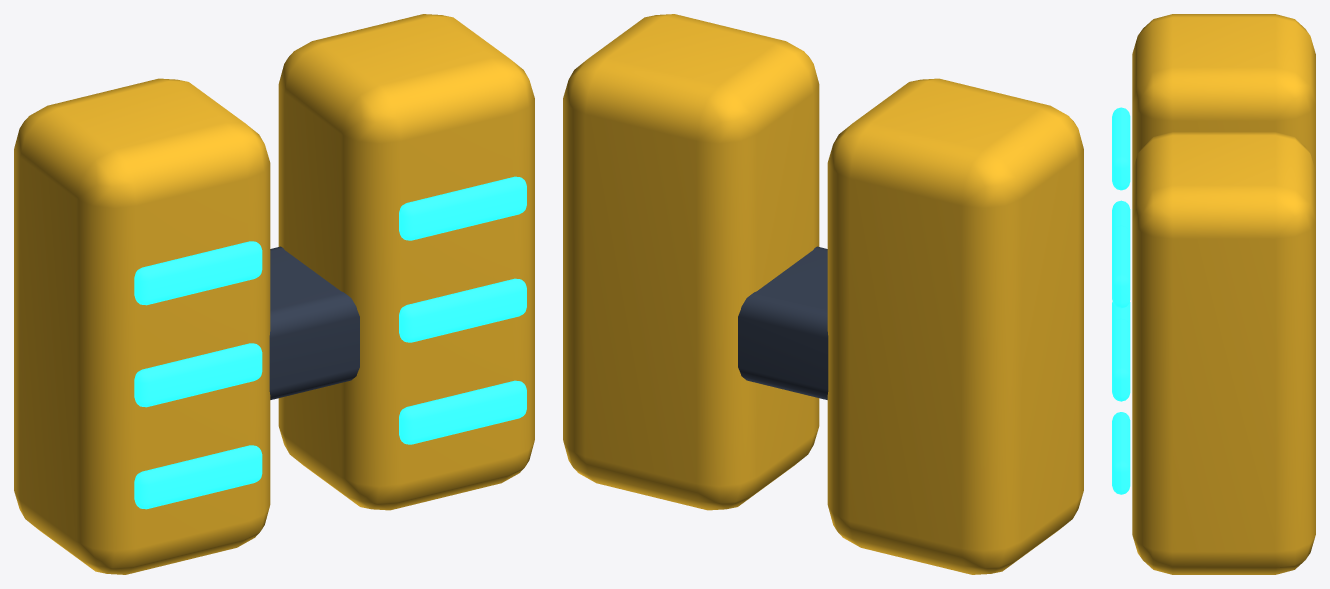
Rendered from free-double-core.glb.
3 renders of one model, left to right at view 1: azimuth 30°, elevation 25°; view 2: azimuth 150°, elevation 25°; view 3: azimuth 270°, elevation 25°, orthographic. The views are drawn at different scales.
Parts seen in each view (by area): view 1: double-core; view 2: double-core; view 3: double-core.
Boxes of the visible parts, left/top/right/bottom form: double-core: left=14, top=14, right=534, bottom=574; double-core: left=563, top=14, right=1083, bottom=574; double-core: left=1112, top=14, right=1315, bottom=574.
Size of the model in its own units: 0.65 by 0.58 by 0.2775.
